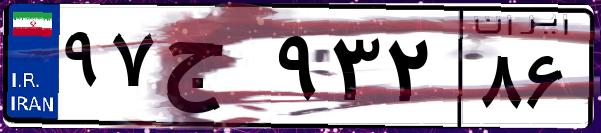2: (385, 28, 445, 110)
3: (330, 28, 385, 110)
6: (525, 38, 570, 115)
7: (110, 28, 158, 98)
8: (475, 38, 525, 113)
9: (270, 28, 330, 110), (57, 26, 110, 100)
ج: (158, 20, 270, 120)
